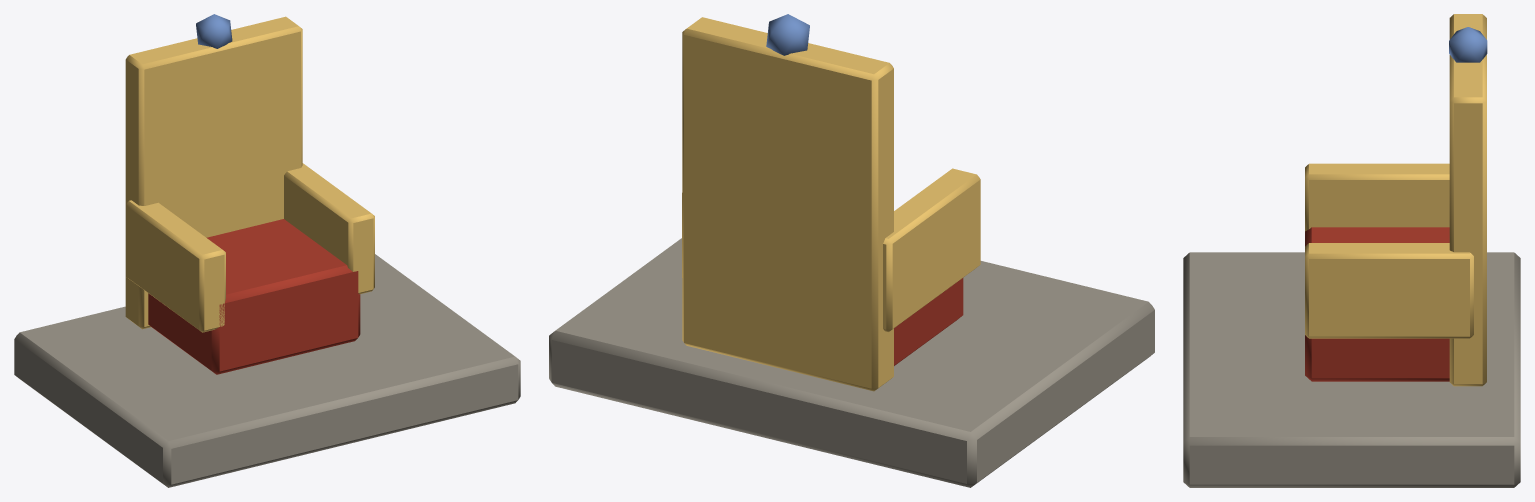
File: throne.glb
3 renders of one model, left to right at view 1: azimuth 30°, elevation 25°; view 2: azimuth 150°, elevation 25°; view 3: azimuth 270°, elevation 25°, orthographic. The views are drawn at different scales.
Visible parts, largest first — view 1: building; view 2: building; view 3: building.
Part boxes in pixels (x1=…): building: x1=14, y1=14, x2=520, y2=487; building: x1=549, y1=14, x2=1154, y2=487; building: x1=1183, y1=14, x2=1520, y2=487.
Size of the model in its own units: 2.4 by 2.17 by 1.8.
